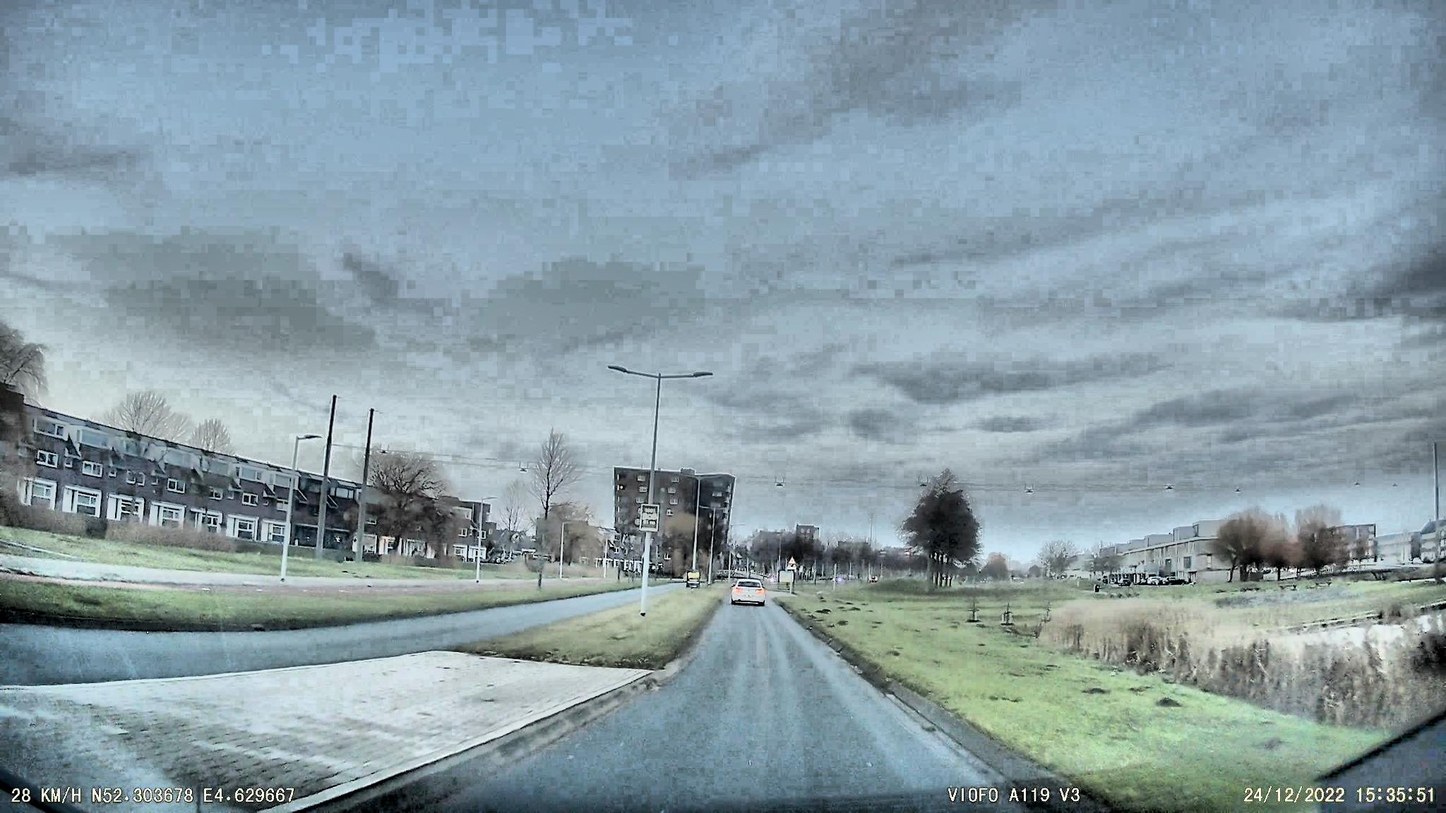Roads: (239, 601, 1111, 813), (0, 588, 650, 686)
